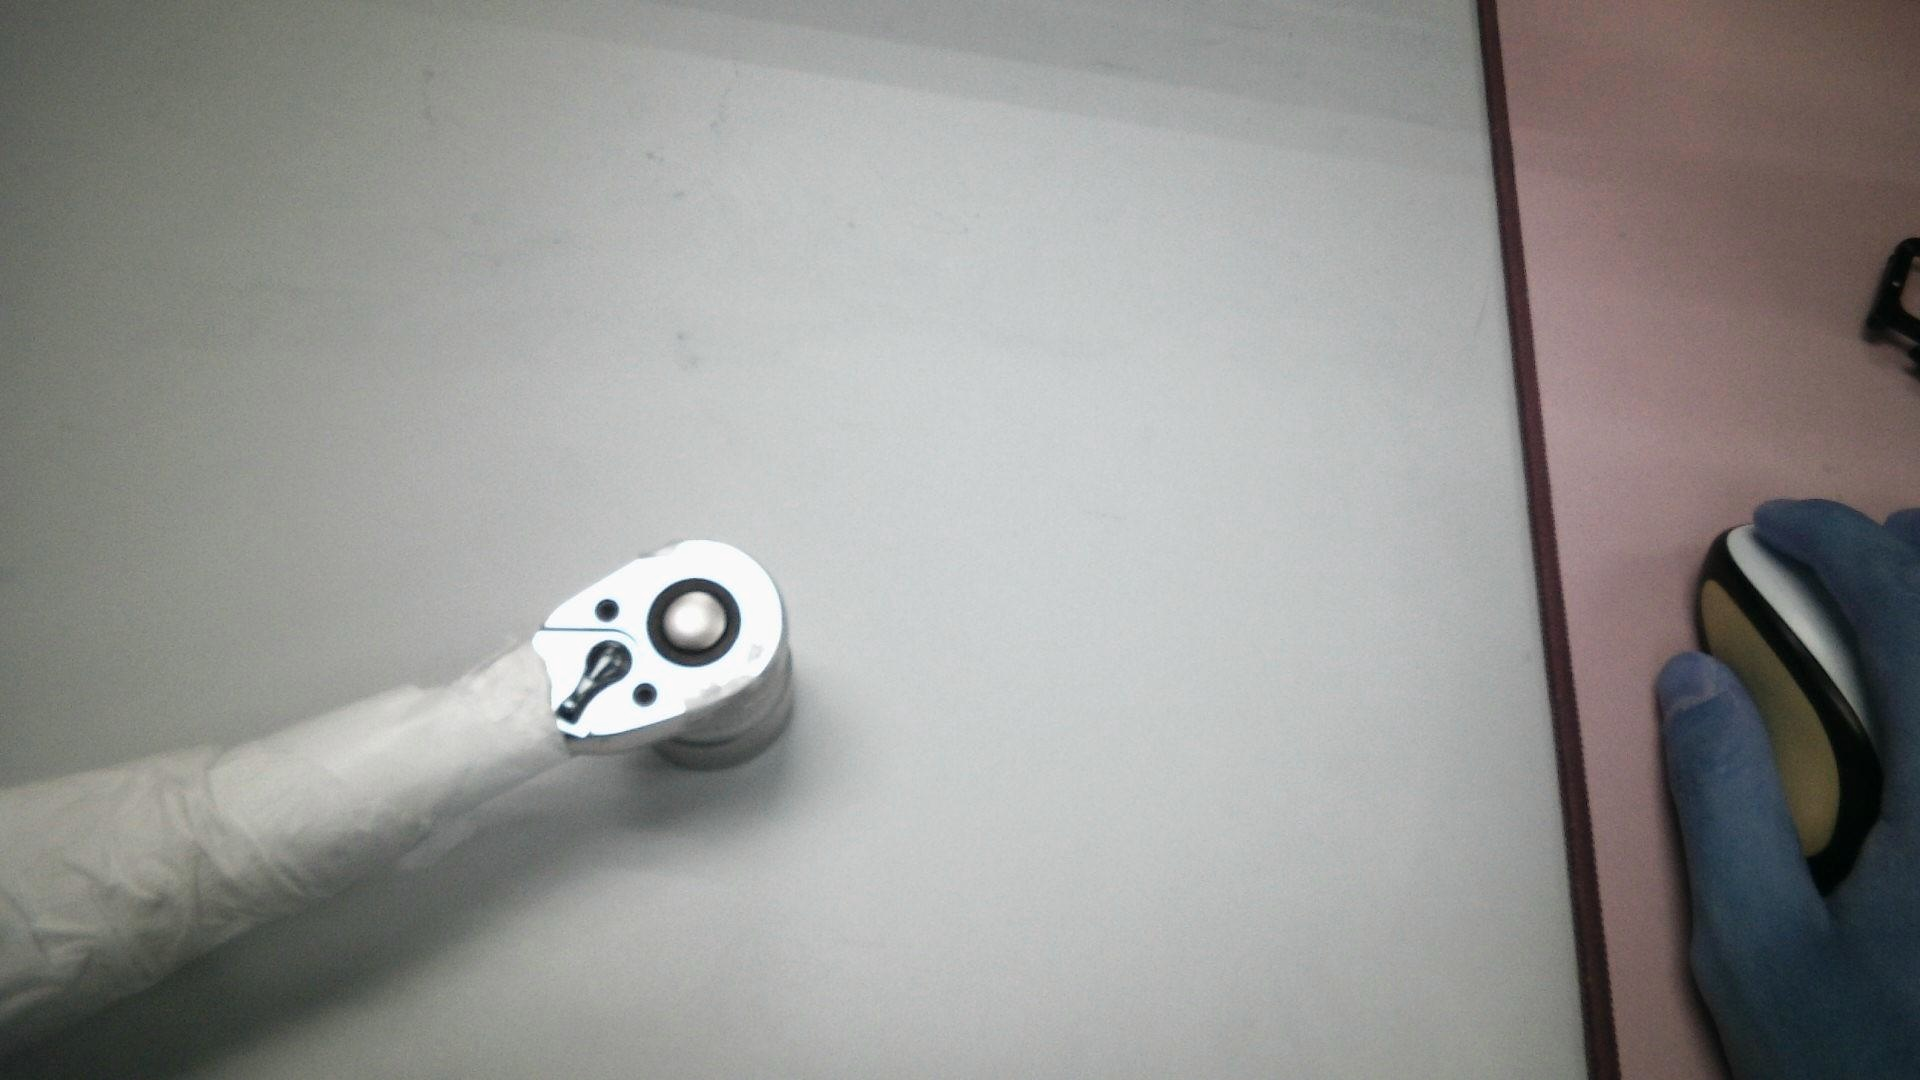wrench: (638, 575, 738, 673)
